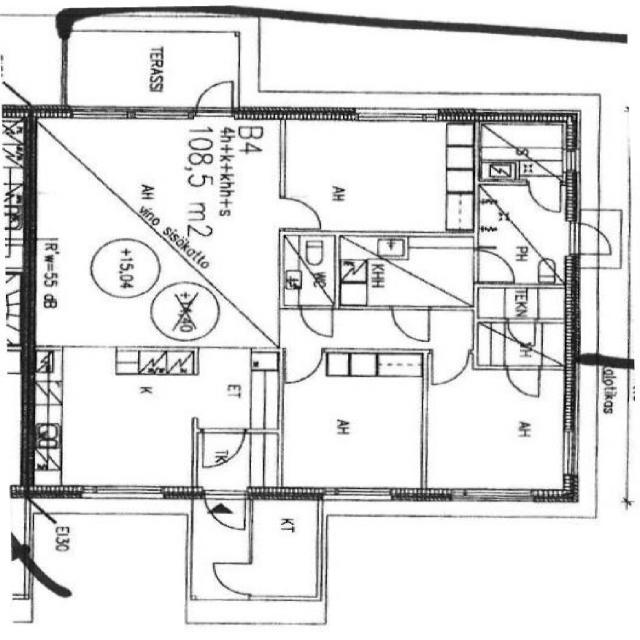door: (204, 487, 244, 532), (195, 76, 232, 120), (204, 428, 244, 467), (566, 224, 616, 254), (473, 250, 515, 282), (212, 563, 254, 594), (432, 348, 468, 384), (392, 305, 428, 341), (279, 198, 320, 229), (287, 348, 323, 383), (528, 179, 560, 212), (507, 365, 538, 397), (301, 305, 332, 336), (508, 318, 536, 346)
